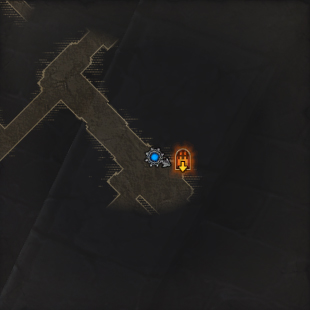Exit: (174, 146, 193, 175)
